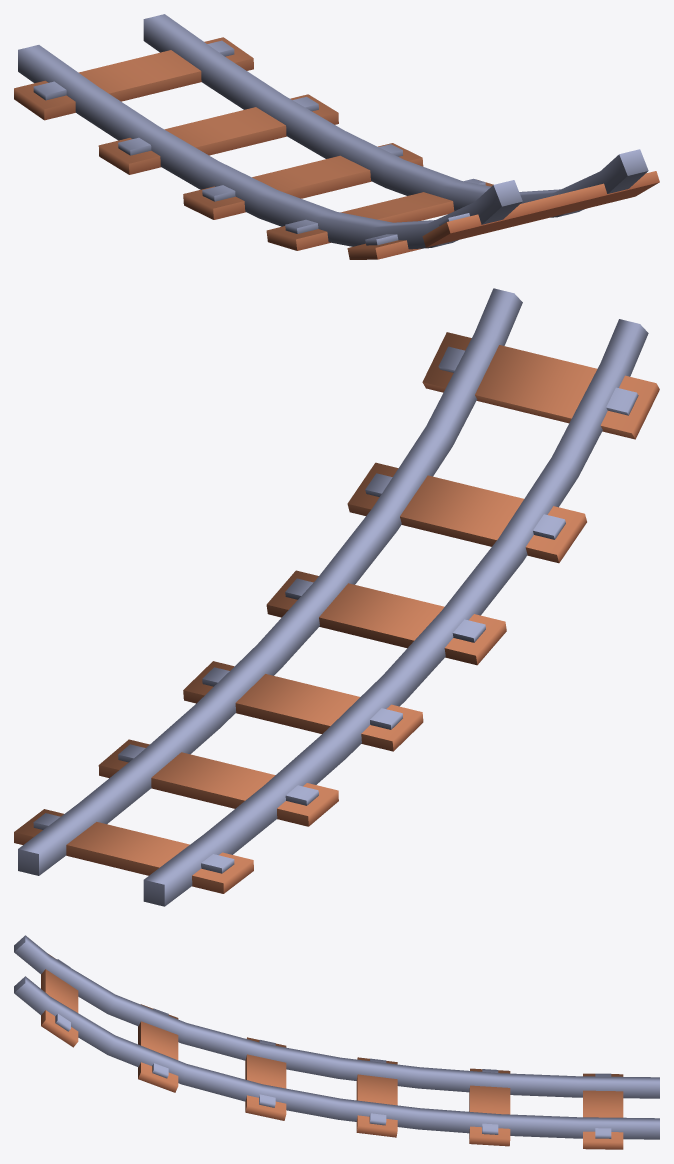
The model's file is railroad-straight-hill-beginning.glb.
3 views of the same model, one above another, from view 1: azimuth 30°, elevation 25°; view 2: azimuth 150°, elevation 25°; view 3: azimuth 270°, elevation 25° (orthographic). The views are drawn at different scales.
Visible parts, largest first — view 1: railroad-straight-hill-beginning; view 2: railroad-straight-hill-beginning; view 3: railroad-straight-hill-beginning.
Part boxes in pixels (<box>): railroad-straight-hill-beginning: <box>14,14,659,259</box>; railroad-straight-hill-beginning: <box>14,288,659,906</box>; railroad-straight-hill-beginning: <box>14,935,659,1149</box>.
Size of the model in its own units: 1 by 1.07 by 4.
